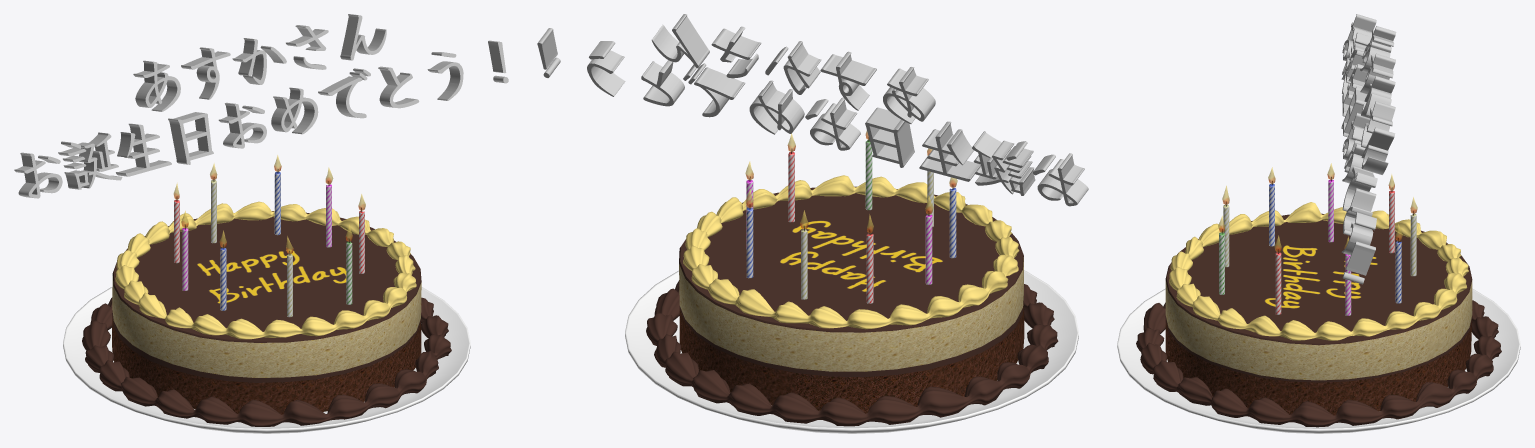
Rendered from asset.glb.
The picture shows the model from 3 angles, left to right: view 1: azimuth 30°, elevation 25°; view 2: azimuth 150°, elevation 25°; view 3: azimuth 270°, elevation 25°; orthographic projection. The views are drawn at different scales.
Visible parts, largest first — view 1: cake_Cylinder, ome.ask, cream_Circle.001, yellow-cream_Circle, dish_Cylinder.028, Plane; view 2: cake_Cylinder, ome.ask, cream_Circle.001, yellow-cream_Circle, dish_Cylinder.028, Plane, candle2_Cylinder.007, candle6_Cylinder.024, candle4_Cylinder.001, candle5_Cylinder.025, candle8_Cylinder.018; view 3: cake_Cylinder, ome.ask, cream_Circle.001, yellow-cream_Circle, dish_Cylinder.028, Plane, candle9_Cylinder.013, candle3_Cylinder.006, candle2_Cylinder.007.
Boxes of the visible parts, x1,y1,x2,y2 form: cake_Cylinder: [112, 211, 421, 414]; ome.ask: [14, 14, 508, 198]; cream_Circle.001: [82, 297, 451, 426]; yellow-cream_Circle: [115, 201, 416, 339]; dish_Cylinder.028: [63, 287, 470, 433]; Plane: [197, 249, 346, 303]; cake_Cylinder: [679, 186, 1024, 413]; ome.ask: [537, 14, 1088, 206]; cream_Circle.001: [646, 280, 1058, 426]; yellow-cream_Circle: [683, 175, 1019, 329]; dish_Cylinder.028: [625, 270, 1078, 433]; Plane: [780, 221, 942, 291]; candle2_Cylinder.007: [746, 207, 753, 278]; candle6_Cylinder.024: [949, 188, 956, 258]; candle4_Cylinder.001: [866, 233, 873, 303]; candle5_Cylinder.025: [925, 214, 932, 284]; candle8_Cylinder.018: [865, 139, 872, 210]; cake_Cylinder: [1165, 213, 1472, 415]; ome.ask: [1341, 14, 1396, 284]; cream_Circle.001: [1136, 300, 1501, 427]; yellow-cream_Circle: [1169, 202, 1468, 340]; dish_Cylinder.028: [1117, 288, 1520, 433]; Plane: [1265, 245, 1377, 308]; candle9_Cylinder.013: [1275, 252, 1281, 314]; candle3_Cylinder.006: [1410, 213, 1416, 276]; candle2_Cylinder.007: [1395, 241, 1401, 303].
Bounding box in the file's own units: 3.26 × 1.92 × 2.4.
Materials: 10 (5 with a texture image).
